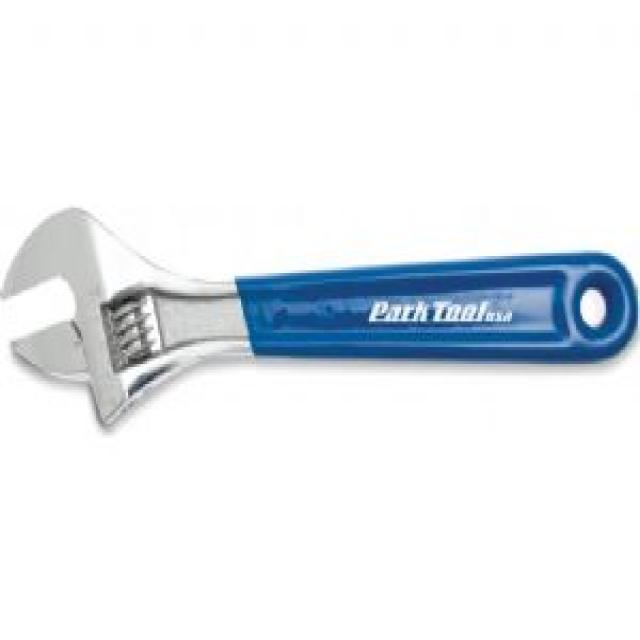wrench: (0, 154, 640, 454)
